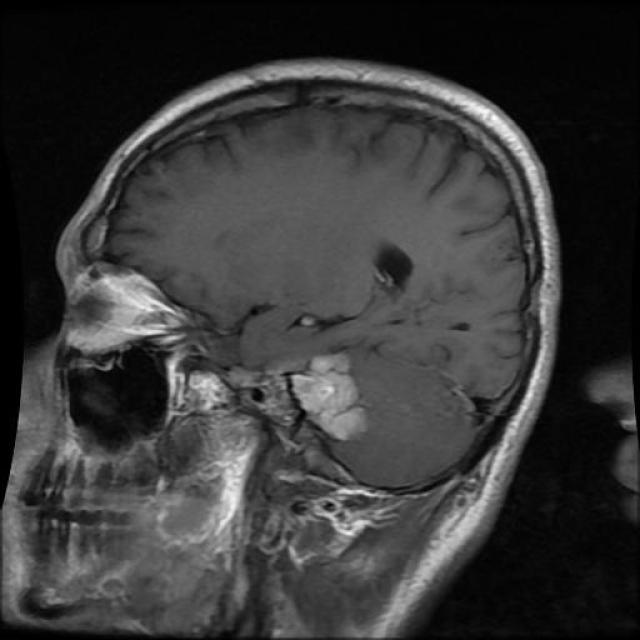meningioma: (290, 356, 368, 441)
